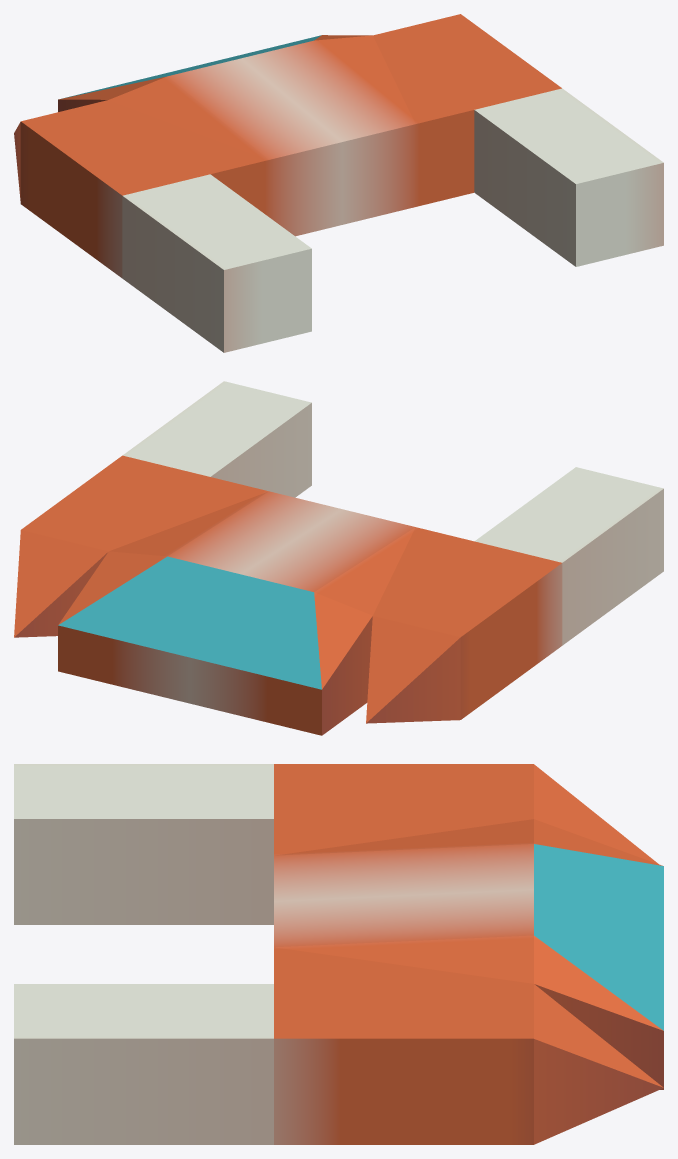
File: ship2.fbx
The picture shows the model from 3 angles, top to bottom: view 1: azimuth 30°, elevation 25°; view 2: azimuth 150°, elevation 25°; view 3: azimuth 270°, elevation 25°; orthographic projection. The views are drawn at different scales.
Parts seen in each view (by area): view 1: Cube; view 2: Cube; view 3: Cube.
Part boxes in pixels (box(x1,y1,x2,y2)): Cube: box(14, 14, 663, 352); Cube: box(14, 381, 663, 735); Cube: box(14, 764, 663, 1144).
Size of the model in its own units: 500 by 100 by 500.
